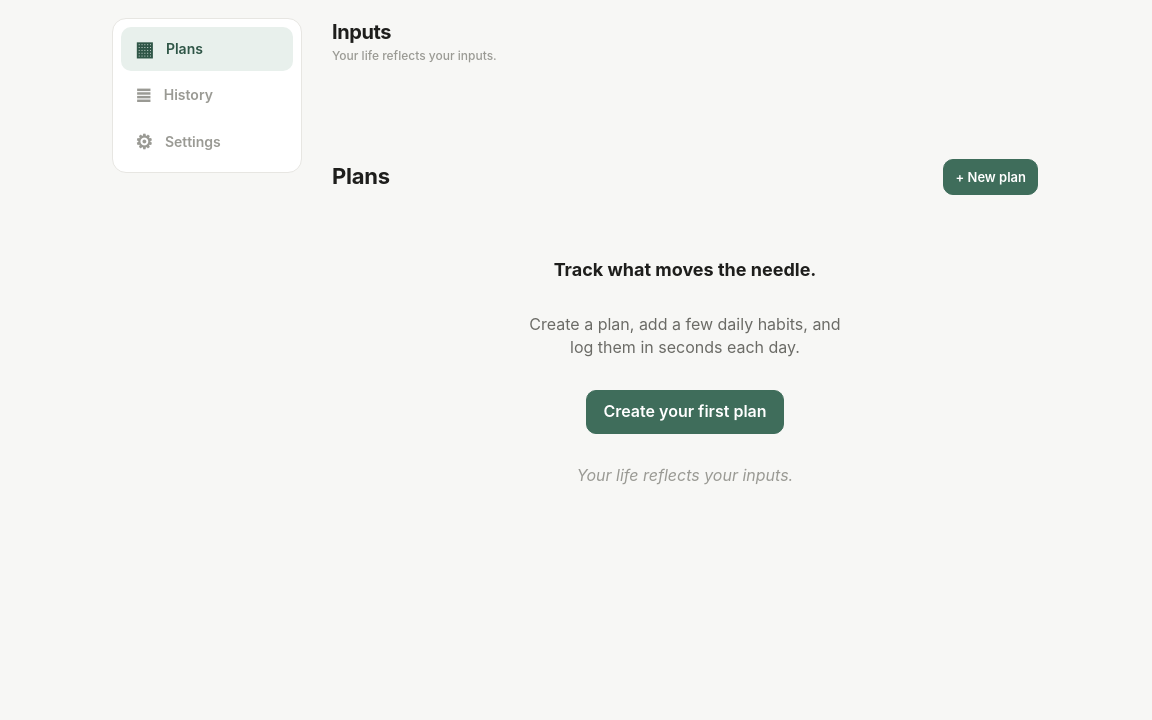
App shell › opens the new-plan form from the empty state
This screenshot has width=1152, height=720.
Click the button "Create your first plan" at (685, 412), box [586,390,784,434]
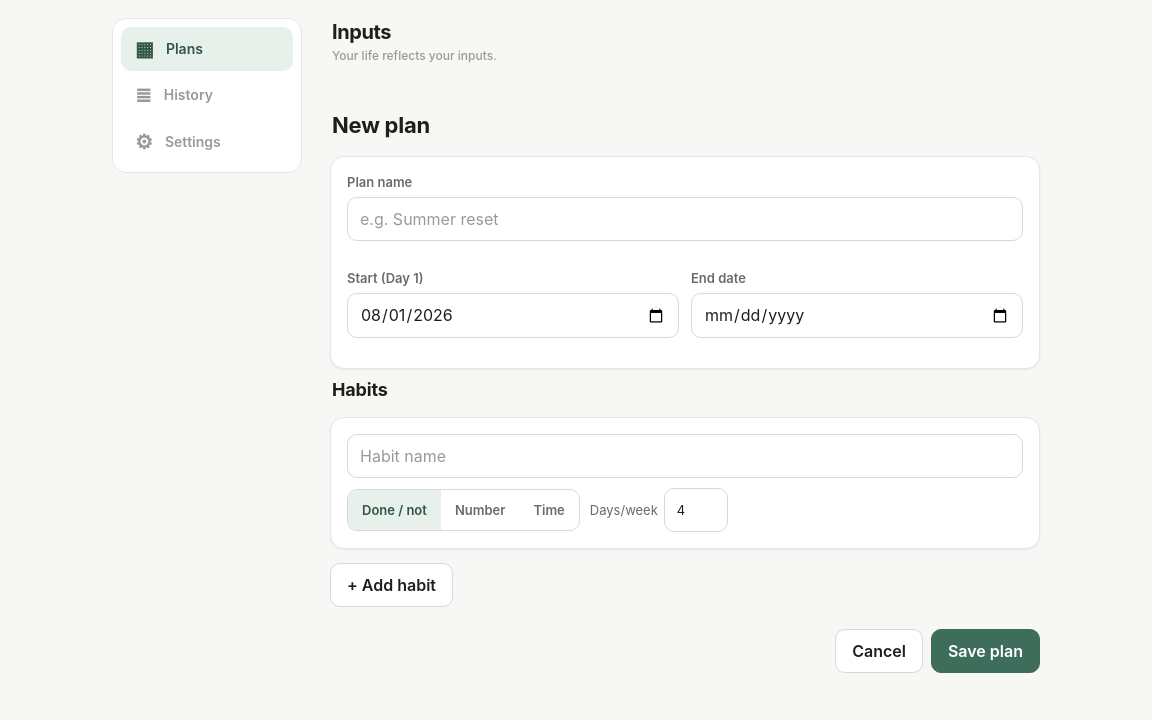
Expected: the heading "New plan" is shown, [332,112,430,138]
Expected: the field labelled "Plan name" is shown, [347,197,1023,241]
